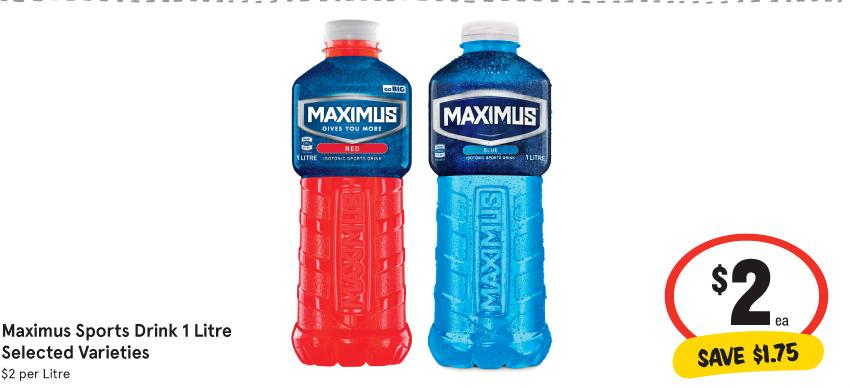description_block: (0, 307, 233, 363)
price_main: (665, 239, 825, 340)
product_image_block: (245, 9, 595, 380)
promo_text_block: (650, 336, 838, 377)
unit_price_block: (0, 361, 93, 386)
